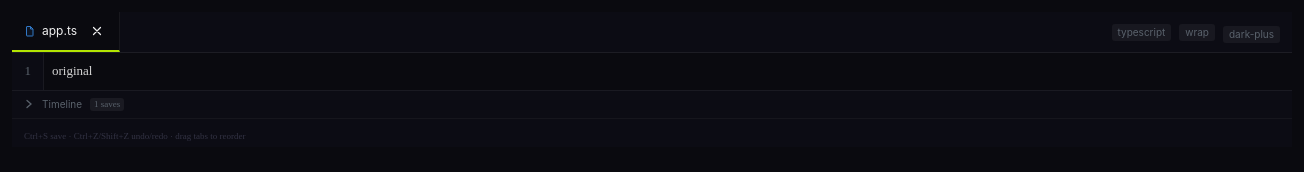
Test case: CodeEditor › marks tab as modified on edit
Replace the text in the text box with test id "editor-textarea" with "modified content" at [668, 71], box 44,53 -> 1292,90
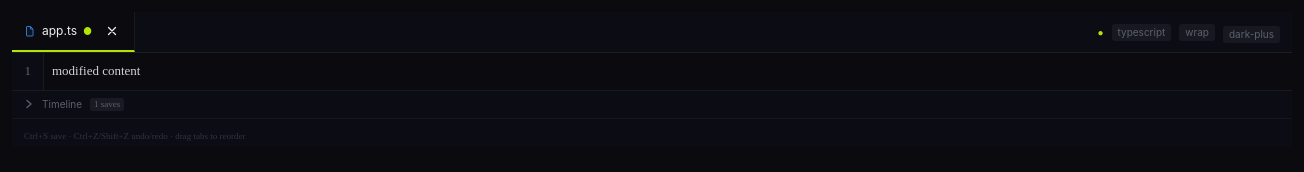
expect the 1st text "●" is shown: met, box 83,24 -> 92,38
